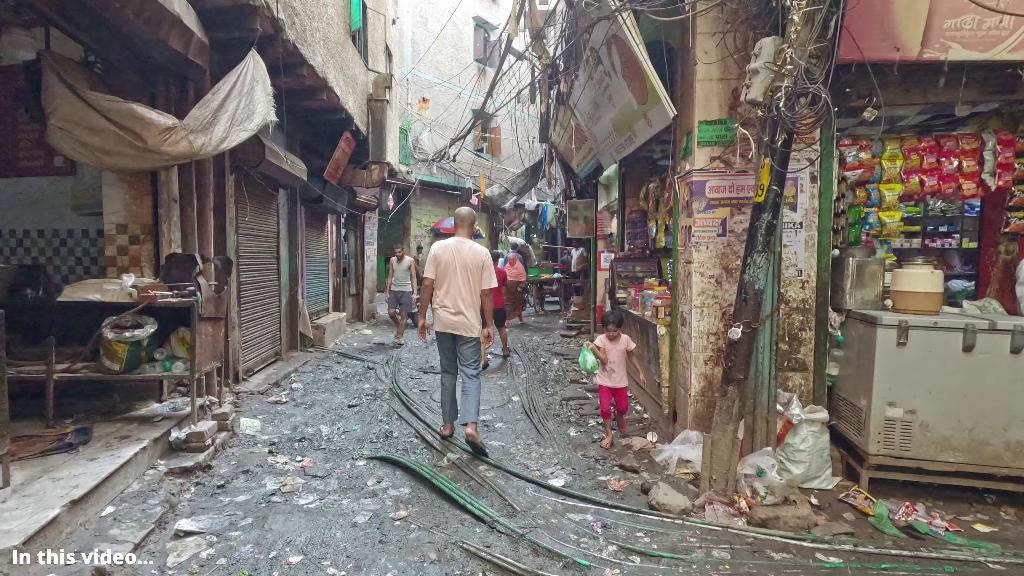garbage: (736, 445, 790, 505), (652, 425, 704, 474), (838, 486, 883, 520), (895, 499, 920, 525), (238, 415, 263, 438), (579, 344, 598, 372), (972, 522, 1001, 533), (549, 477, 567, 487), (646, 430, 658, 444)
